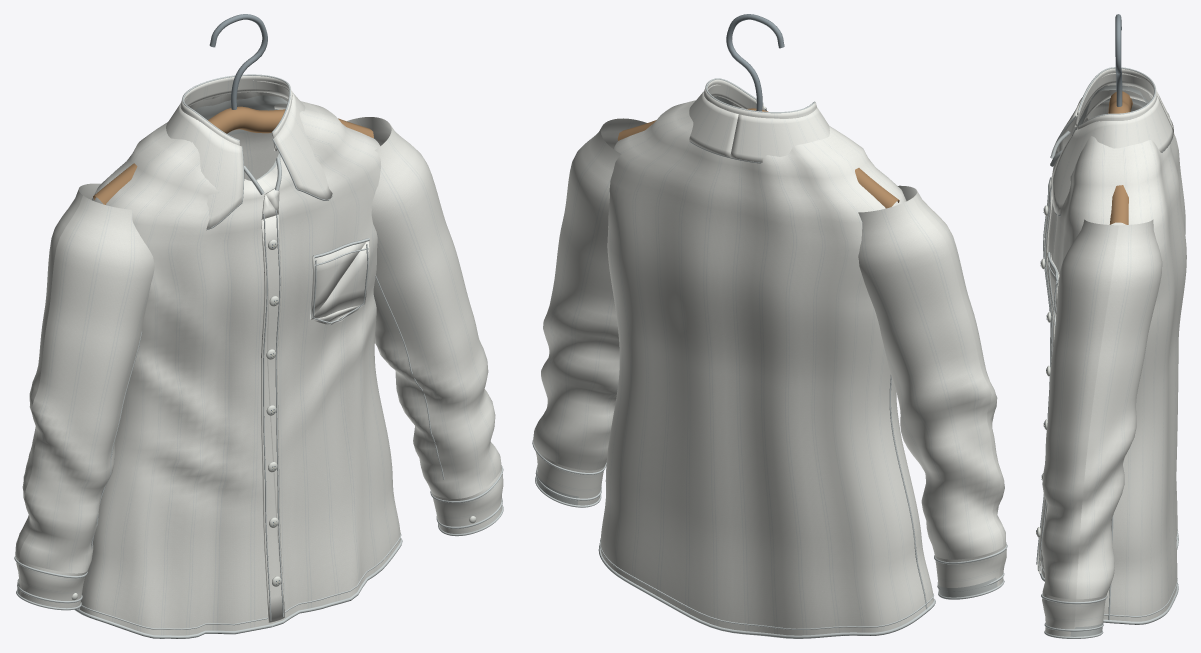
The model's file is white-shirt.glb.
3 views of the same model, side by side, from view 1: azimuth 30°, elevation 25°; view 2: azimuth 150°, elevation 25°; view 3: azimuth 270°, elevation 25° (orthographic). The views are drawn at different scales.
Parts seen in each view (by area): view 1: oxford woven shell, Topstitched cloth edge, Warm beech, Yoke and facing, Brushed steel, Pearl buttons; view 2: oxford woven shell, Topstitched cloth edge, Brushed steel, Yoke and facing, Warm beech; view 3: oxford woven shell, Topstitched cloth edge, Warm beech, Yoke and facing, Brushed steel, Pearl buttons.
Boxes of the visible parts, x1,y1,x2,y2 form: oxford woven shell: [15, 76, 503, 635]; Topstitched cloth edge: [14, 74, 503, 638]; Warm beech: [93, 106, 373, 204]; Yoke and facing: [17, 95, 287, 594]; Brushed steel: [209, 14, 267, 109]; Pearl buttons: [71, 239, 476, 600]; oxford woven shell: [533, 79, 1006, 635]; Topstitched cloth edge: [532, 78, 1007, 638]; Brushed steel: [726, 14, 784, 111]; Yoke and facing: [536, 96, 997, 597]; Warm beech: [617, 108, 899, 208]; oxford woven shell: [1037, 68, 1186, 636]; Topstitched cloth edge: [1036, 67, 1178, 638]; Warm beech: [1108, 91, 1132, 224]; Yoke and facing: [1070, 85, 1148, 636]; Brushed steel: [1115, 14, 1122, 106]; Pearl buttons: [1036, 205, 1051, 537].
Size of the model in its own units: 2 by 2.38 by 0.5748.
Materials: 8 (1 with a texture image).
